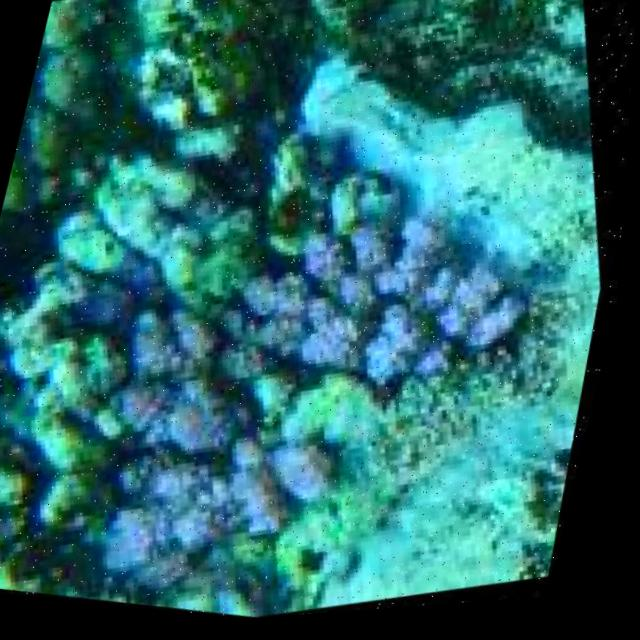Healthy Coral: (0, 87, 544, 640)
